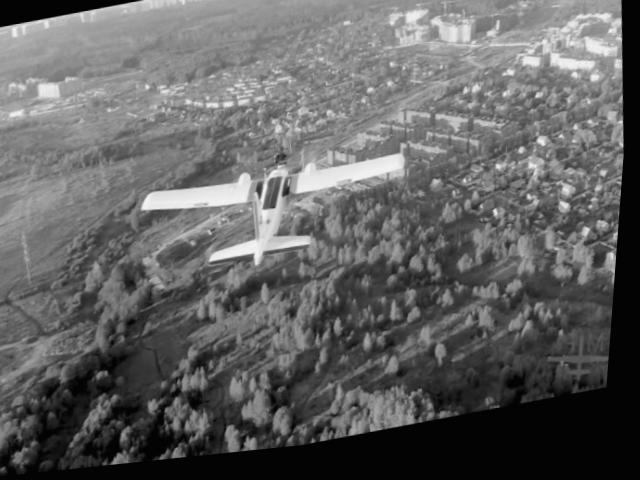hedef: (123, 137, 426, 297)
